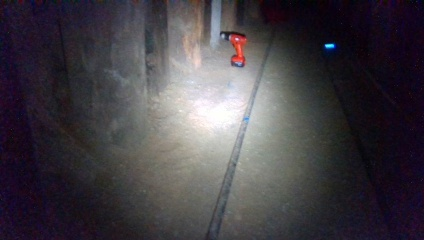drill: (220, 31, 248, 69)
